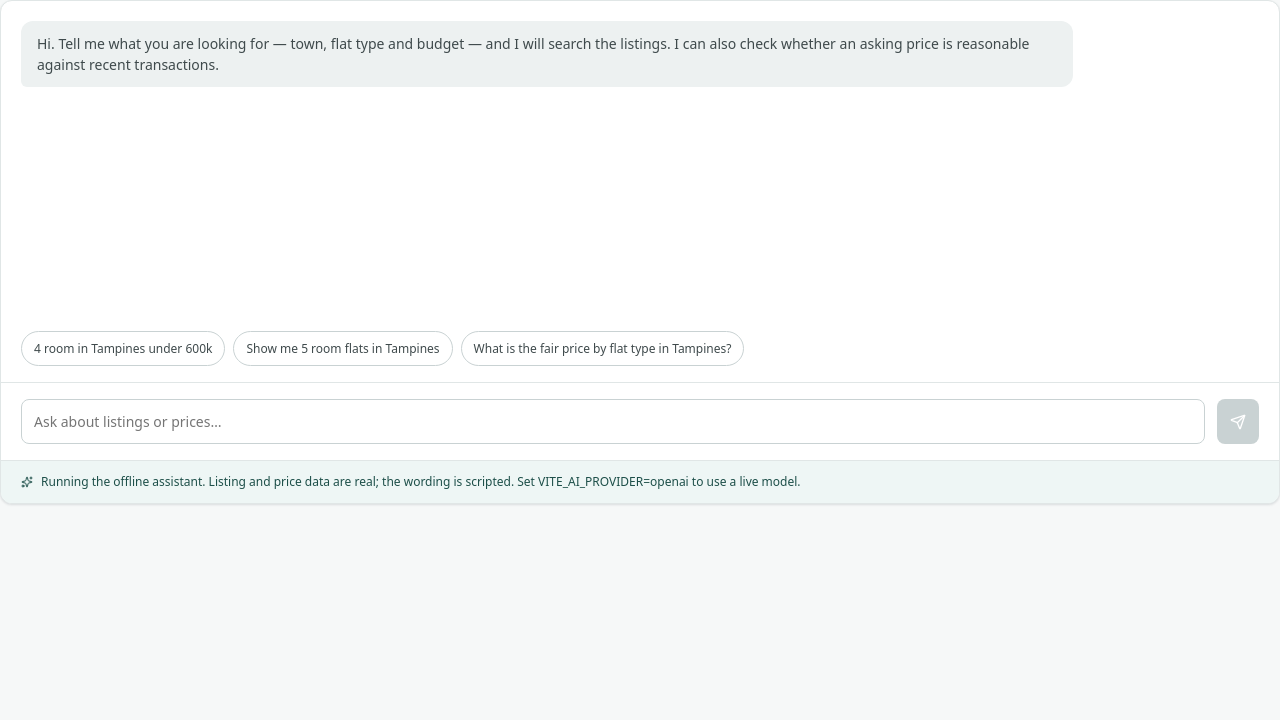
Test case: ChatPanel with the offline assistant › turns away a question unrelated to HDB resale
The width and height of the screenshot is (1280, 720).
Type "write me a poem about the sea" into the field named "message the assistant" at (613, 422), box [21,399,1205,444]
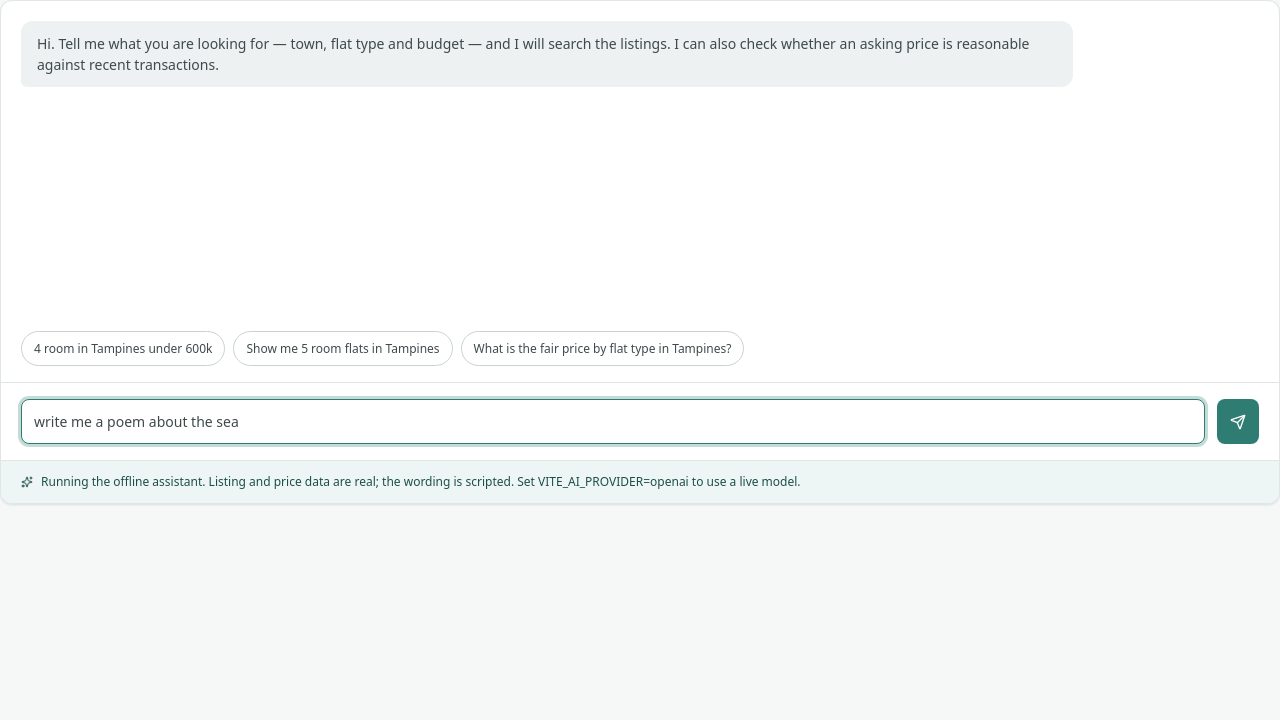
Click the button named "send" at (1238, 422), box [1217,399,1259,444]
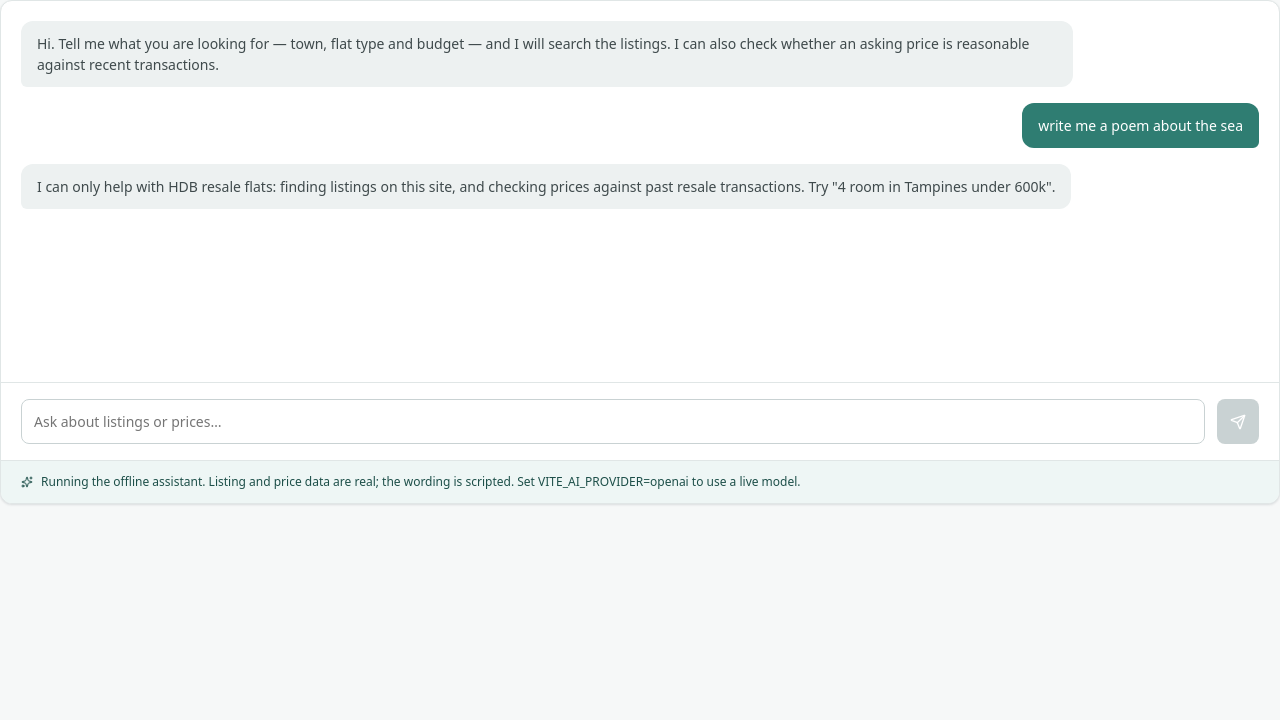
Expected: the text "I can only help with HDB resale flats" is shown, [37,177,1055,196]
